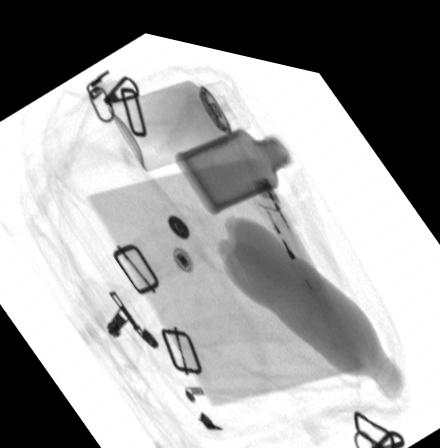Lighter: (243, 163, 317, 265)
Sprayer: (107, 70, 252, 166)
